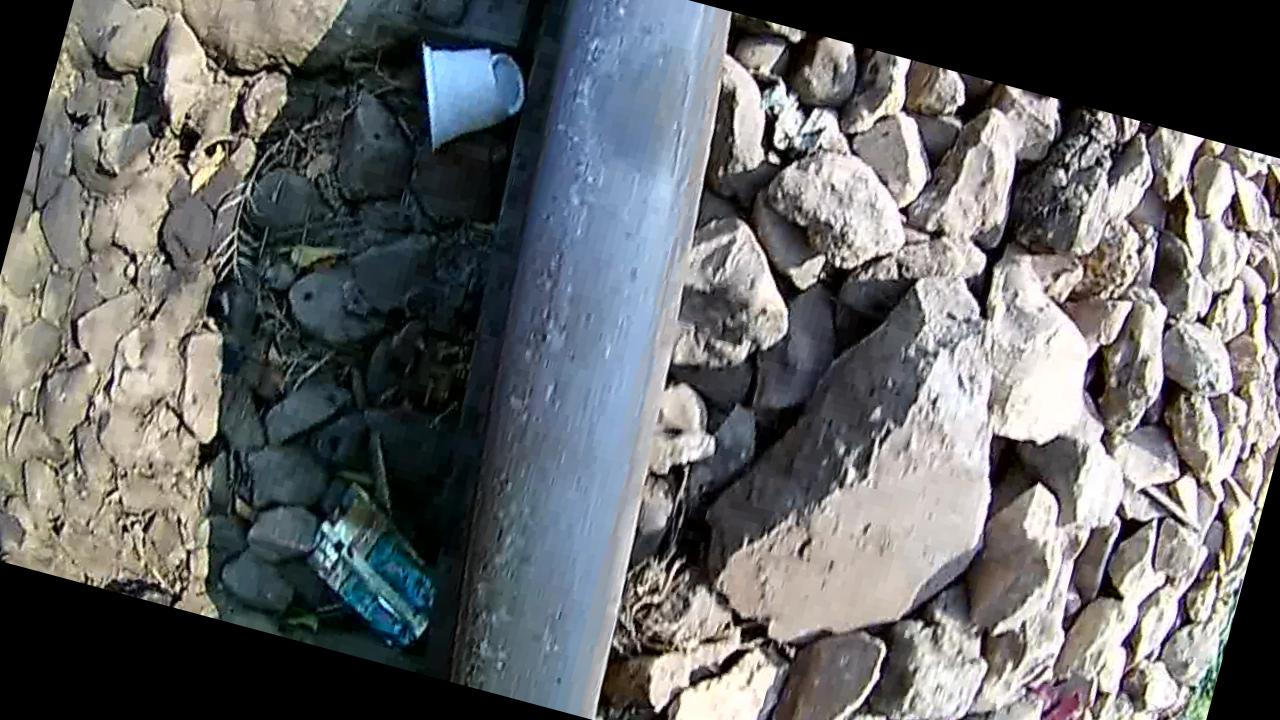bolt_missing: (524, 0, 724, 226)
